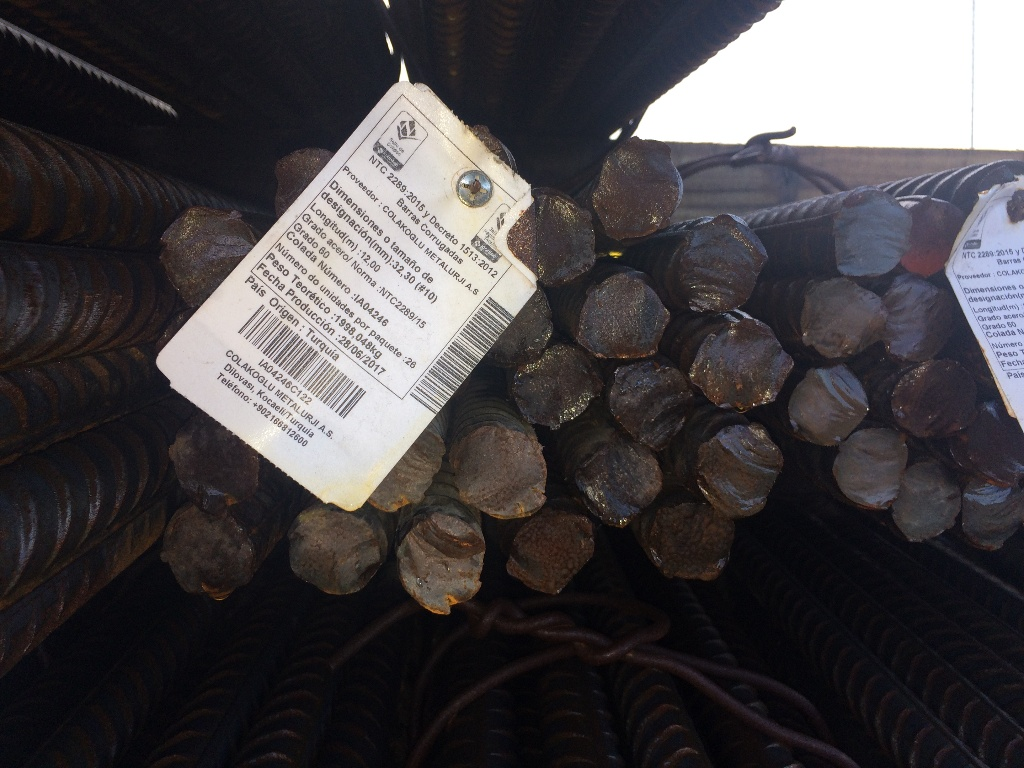dipstick: (165, 208, 257, 305), (397, 513, 483, 612), (451, 429, 546, 516), (593, 140, 680, 235), (682, 217, 767, 311), (163, 509, 253, 593), (290, 511, 378, 593), (693, 331, 787, 407), (698, 427, 782, 511), (173, 426, 261, 506), (582, 276, 667, 358), (610, 362, 691, 443), (509, 516, 593, 593), (803, 280, 885, 356), (834, 191, 907, 276), (891, 362, 976, 435), (513, 351, 592, 428), (651, 505, 732, 580), (526, 196, 592, 283), (790, 367, 865, 442), (373, 432, 445, 510), (834, 429, 905, 507), (585, 449, 658, 524), (887, 279, 951, 362), (895, 462, 960, 540), (905, 196, 962, 276), (487, 293, 549, 365), (961, 484, 1024, 547), (970, 407, 1024, 480), (276, 146, 325, 209)
